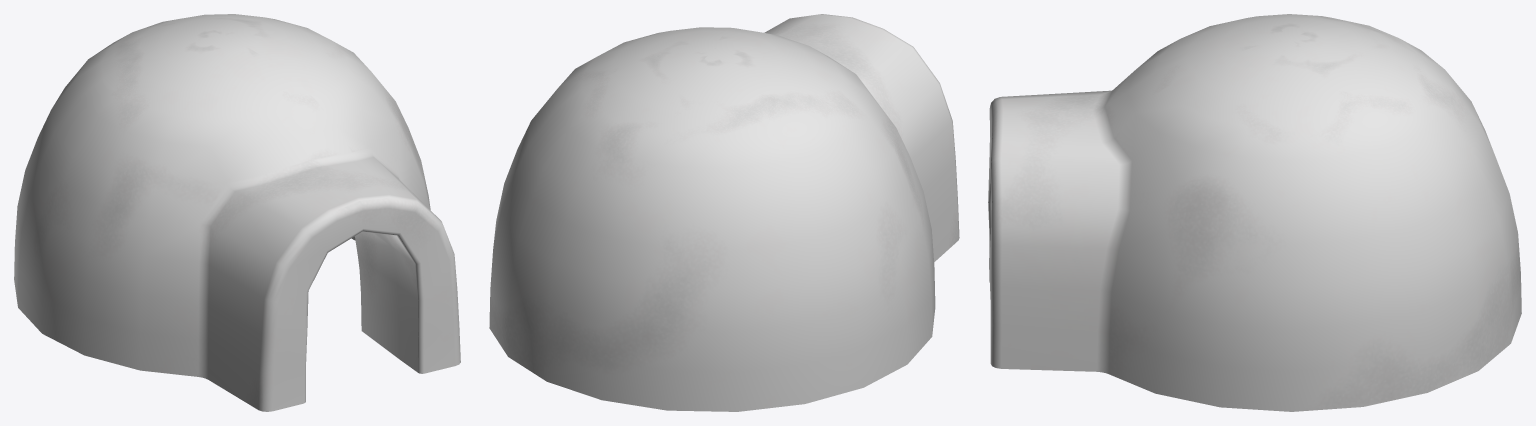
File: simple_igloo.glb
The picture shows the model from 3 angles, left to right: view 1: azimuth 30°, elevation 25°; view 2: azimuth 150°, elevation 25°; view 3: azimuth 270°, elevation 25°; orthographic projection. The views are drawn at different scales.
Visible parts, largest first — view 1: Object_2; view 2: Object_2; view 3: Object_2.
Boxes of the visible parts, x1,y1,x2,y2 form: Object_2: [14, 14, 460, 411]; Object_2: [489, 14, 959, 411]; Object_2: [988, 14, 1521, 411].
Size of the model in its own units: 3.3 by 2.16 by 3.8.
1 material, 1 textured.
